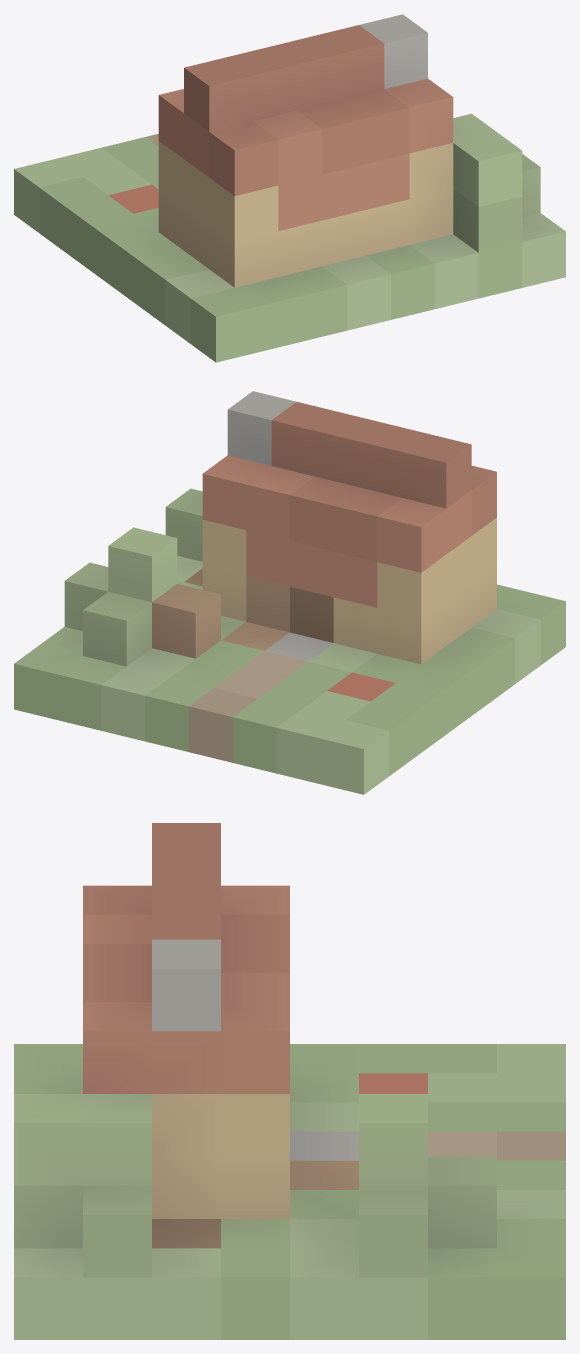
Rendered from orchard.lite.glb.
The picture shows the model from 3 angles, top to bottom: view 1: azimuth 30°, elevation 25°; view 2: azimuth 150°, elevation 25°; view 3: azimuth 270°, elevation 25°; orthographic projection. The views are drawn at different scales.
Visible parts, largest first — view 1: orchard; view 2: orchard; view 3: orchard.
Part boxes in pixels (x1,y1,x2,y2): orchard: [14, 14, 565, 362]; orchard: [14, 391, 565, 794]; orchard: [14, 823, 565, 1339].
Bounding box in the file's own units: 4 × 2.5 × 4.
